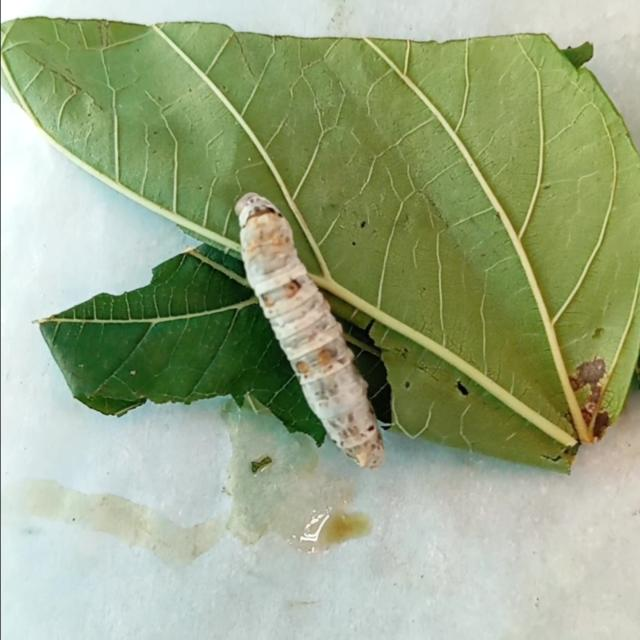Grasserie: (210, 160, 387, 477)
